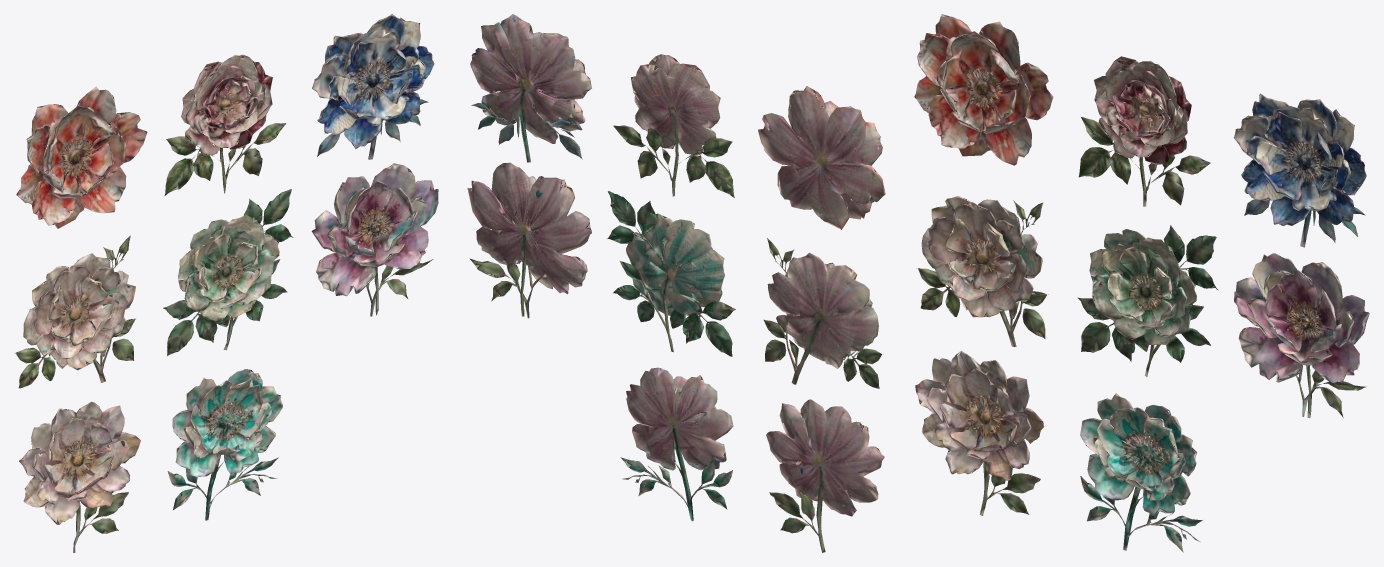
The picture shows the model from 3 angles, left to right: view 1: azimuth 30°, elevation 25°; view 2: azimuth 150°, elevation 25°; view 3: azimuth 330°, elevation 25°; orthographic projection. The views are drawn at different scales.
Parts seen in each view (by area): view 1: Mesh 2, Mesh 9, Mesh 8, Mesh 5, Mesh 3, Mesh 1, Mesh 7, Mesh 6; view 2: Mesh 2, Mesh 9, Mesh 8, Mesh 5, Mesh 1, Mesh 3, Mesh 7, Mesh 6; view 3: Mesh 2, Mesh 9, Mesh 8, Mesh 5, Mesh 1, Mesh 3, Mesh 7, Mesh 6.
Part boxes in pixels (left/top/right/bottom): Mesh 2: left=16, top=86, right=147, bottom=228; Mesh 9: left=311, top=163, right=438, bottom=316; Mesh 8: left=312, top=14, right=434, bottom=159; Mesh 5: left=163, top=189, right=293, bottom=355; Mesh 3: left=19, top=401, right=140, bottom=552; Mesh 1: left=14, top=235, right=135, bottom=388; Mesh 7: left=167, top=369, right=282, bottom=520; Mesh 6: left=164, top=54, right=286, bottom=195; Mesh 2: left=758, top=86, right=885, bottom=229; Mesh 9: left=467, top=162, right=591, bottom=318; Mesh 8: left=470, top=14, right=591, bottom=162; Mesh 5: left=606, top=191, right=735, bottom=356; Mesh 1: left=763, top=238, right=883, bottom=388; Mesh 3: left=766, top=399, right=884, bottom=552; Mesh 7: left=620, top=367, right=733, bottom=521; Mesh 6: left=613, top=54, right=734, bottom=197; Mesh 2: left=914, top=14, right=1053, bottom=165; Mesh 9: left=1234, top=253, right=1369, bottom=418; Mesh 8: left=1233, top=93, right=1366, bottom=247; Mesh 5: left=1077, top=225, right=1218, bottom=376; Mesh 1: left=916, top=196, right=1048, bottom=346; Mesh 3: left=915, top=351, right=1044, bottom=515; Mesh 7: left=1080, top=393, right=1202, bottom=552; Mesh 6: left=1078, top=56, right=1210, bottom=206.
Bounding box in the file's own units: 1.81 × 1.9 × 0.0666.
8 materials, 8 textured.
